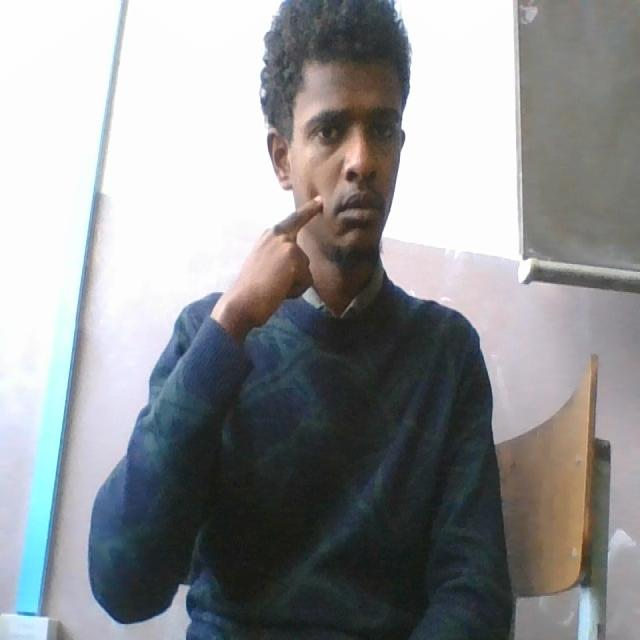enkuan_dehna_metachu: (241, 172, 403, 310)
